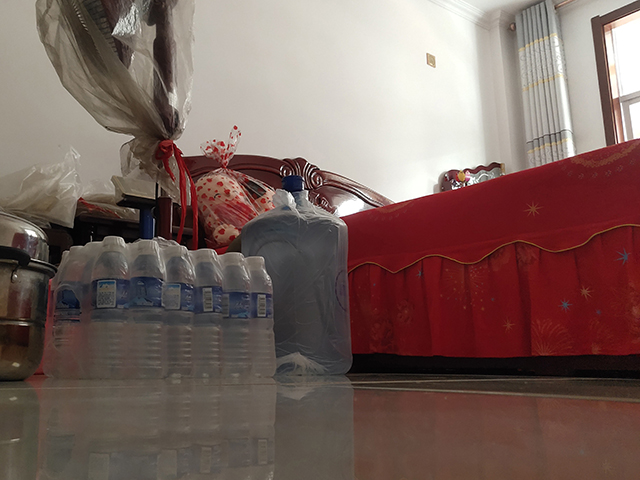bed: (173, 136, 640, 378)
curtain: (513, 3, 577, 162)
